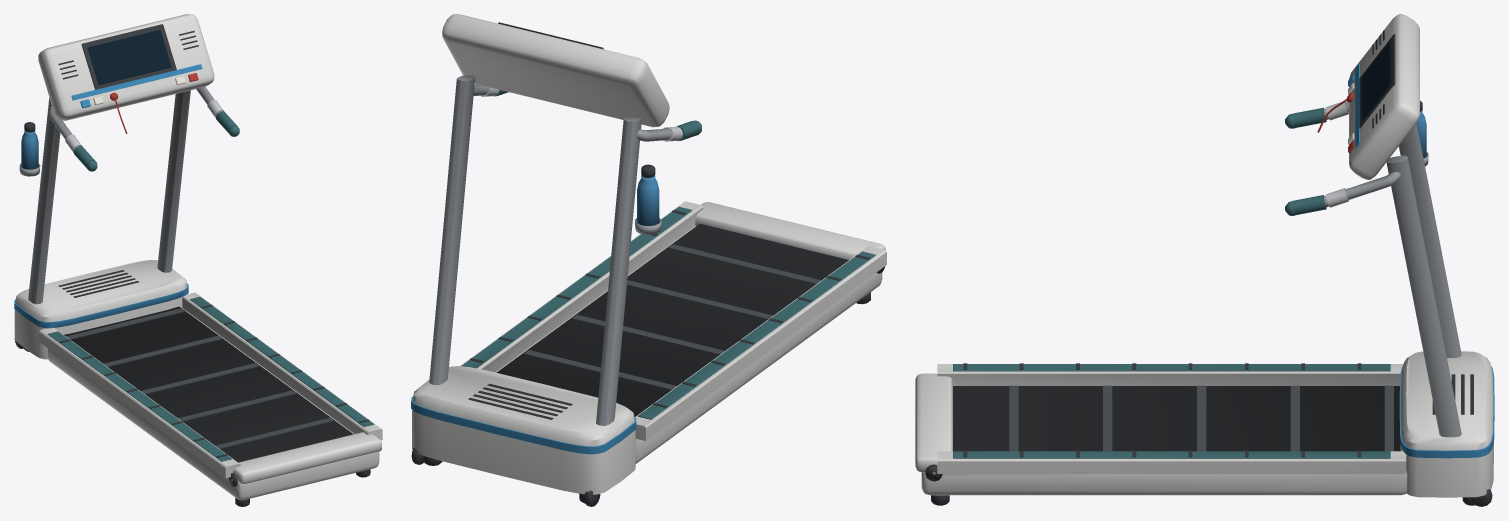
Rendered from treadmill.glb.
3 renders of one model, left to right at view 1: azimuth 30°, elevation 25°; view 2: azimuth 150°, elevation 25°; view 3: azimuth 270°, elevation 25°, orthographic. The views are drawn at different scales.
Parts seen in each view (by area): view 1: body, slats; view 2: body, slats; view 3: body, slats.
Boxes of the visible parts, bbox=[...] form: body: bbox=[14, 14, 382, 506]; slats: bbox=[66, 308, 333, 448]; body: bbox=[411, 14, 886, 506]; slats: bbox=[524, 244, 821, 390]; body: bbox=[915, 14, 1494, 506]; slats: bbox=[1009, 385, 1393, 451].
Bounding box in the file's own units: 0.797 × 1.44 × 1.85.
